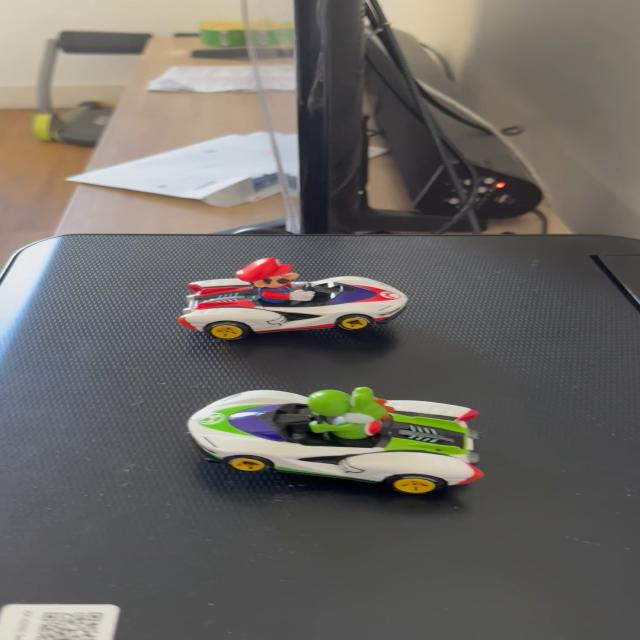mario: (170, 253, 422, 344)
yoshi: (181, 371, 507, 494)
